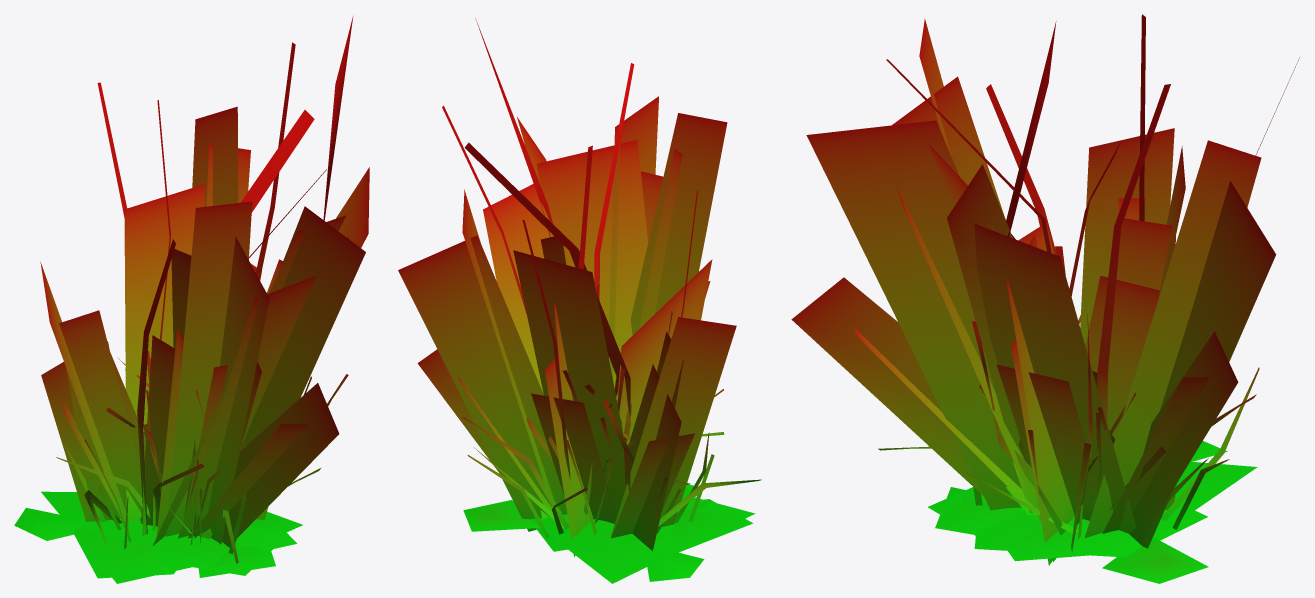
Rendered from Var6_LOD3.fbx.
3 renders of one model, left to right at view 1: azimuth 30°, elevation 25°; view 2: azimuth 150°, elevation 25°; view 3: azimuth 270°, elevation 25°, orthographic. The views are drawn at different scales.
Parts seen in each view (by area): view 1: _e4cb_Var6_LOD3; view 2: _e4cb_Var6_LOD3; view 3: _e4cb_Var6_LOD3.
Part boxes in pixels (x1,y1,x2,y2): _e4cb_Var6_LOD3: [14, 16, 369, 583]; _e4cb_Var6_LOD3: [398, 18, 761, 583]; _e4cb_Var6_LOD3: [791, 14, 1299, 583].
Bounding box in the file's own units: 18.86 × 31.32 × 23.78.
